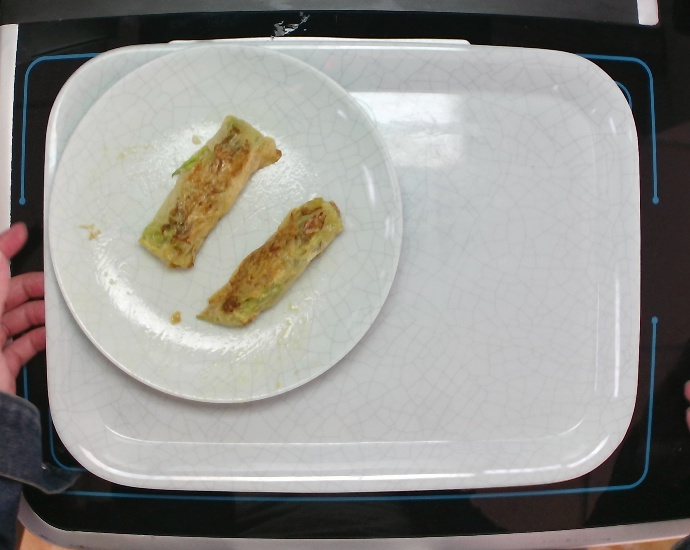JYsf-Da_Yuan_Pan: (45, 41, 405, 406)
